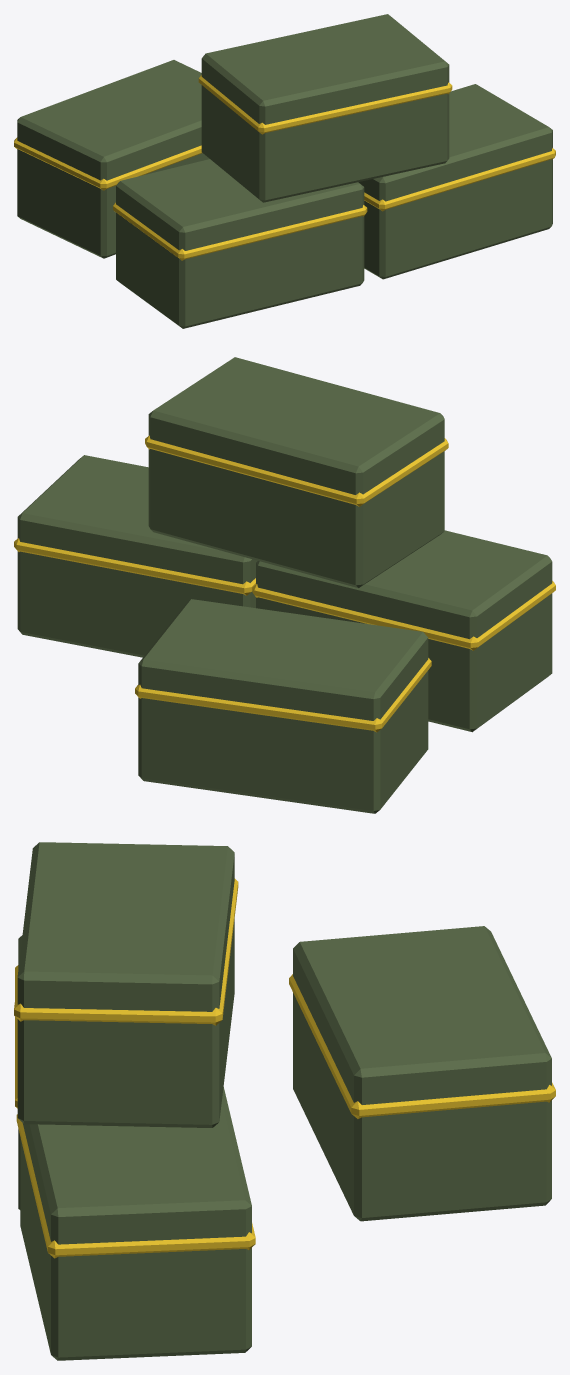
File: lador.glb
The picture shows the model from 3 angles, top to bottom: view 1: azimuth 30°, elevation 25°; view 2: azimuth 150°, elevation 25°; view 3: azimuth 270°, elevation 25°; orthographic projection. The views are drawn at different scales.
Parts seen in each view (by area): view 1: lador; view 2: lador; view 3: lador.
Boxes of the visible parts, x1,y1,x2,y2 form: lador: (14,14,555,328); lador: (14,357,555,813); lador: (14,842,555,1360).
Size of the model in its own units: 2.04 by 1 by 1.61.
